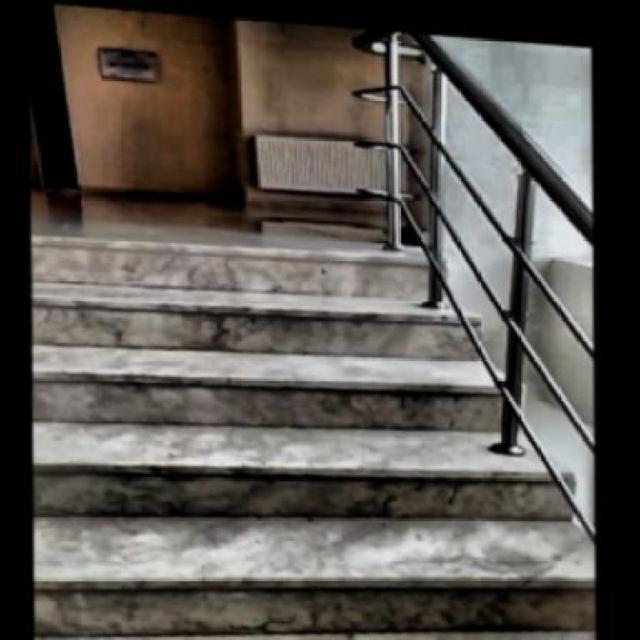stair: (28, 223, 626, 639)
